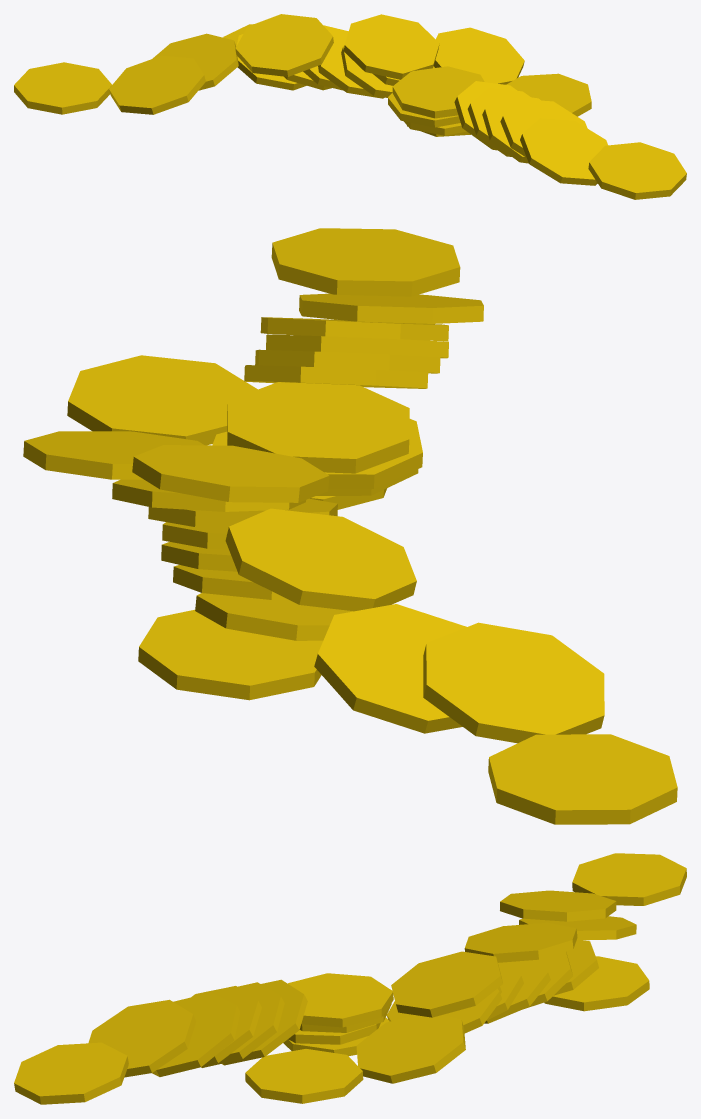
The model's file is CoinHeap1.fbx.
3 views of the same model, one above another, from view 1: azimuth 30°, elevation 25°; view 2: azimuth 150°, elevation 25°; view 3: azimuth 270°, elevation 25° (orthographic). The views are drawn at different scales.
Visible parts, largest first — view 1: CoinHeap1; view 2: CoinHeap1; view 3: CoinHeap1.
Boxes of the visible parts, box(x1,y1,x2,y2) form: CoinHeap1: box(14, 14, 686, 199); CoinHeap1: box(23, 228, 677, 824); CoinHeap1: box(14, 853, 686, 1104).
Size of the model in its own units: 59.36 by 7.27 by 67.22.
